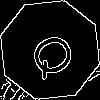Q: (25, 25, 86, 83)
